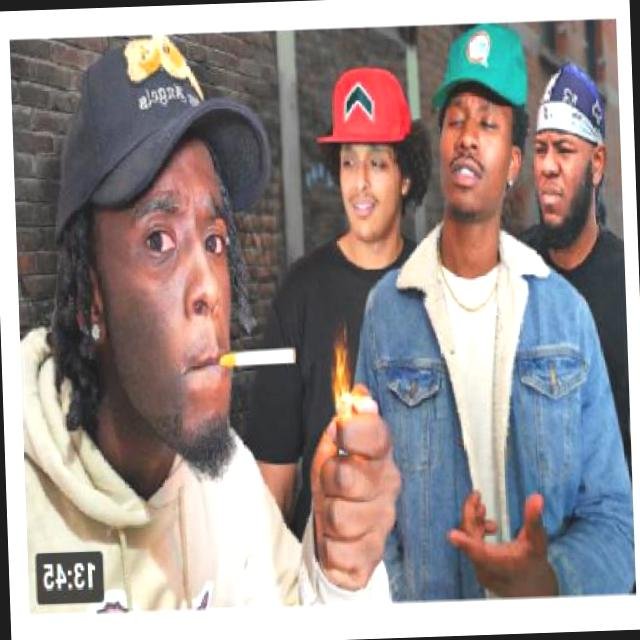smoke: (205, 330, 304, 393)
